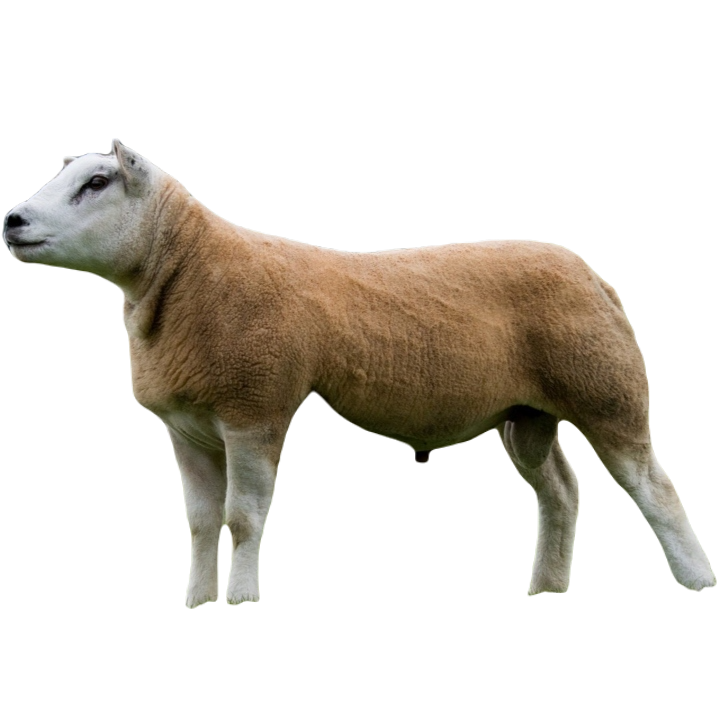Sheep: (0, 133, 720, 608)
